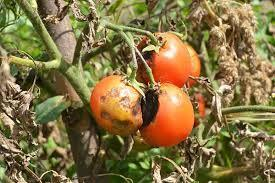tomato late blight: (139, 83, 197, 150), (90, 75, 146, 139), (145, 33, 203, 89)
